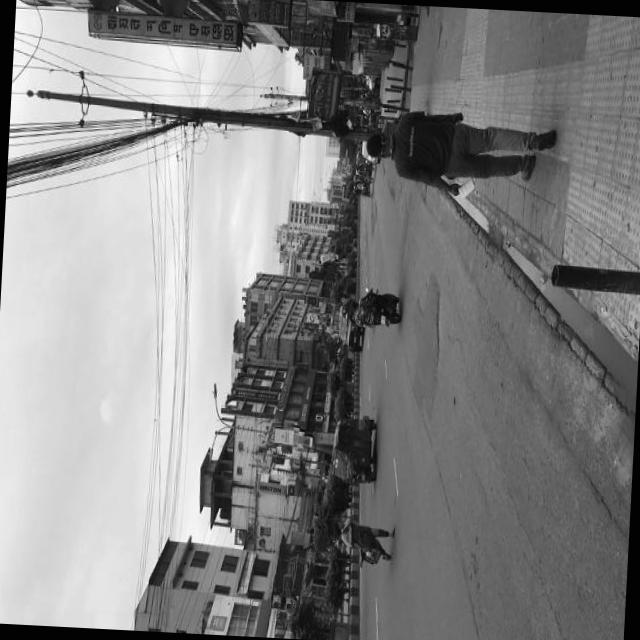car: (334, 298, 366, 357)
motorcycle: (328, 406, 383, 493), (346, 284, 406, 331), (350, 176, 374, 201), (352, 162, 377, 177)
